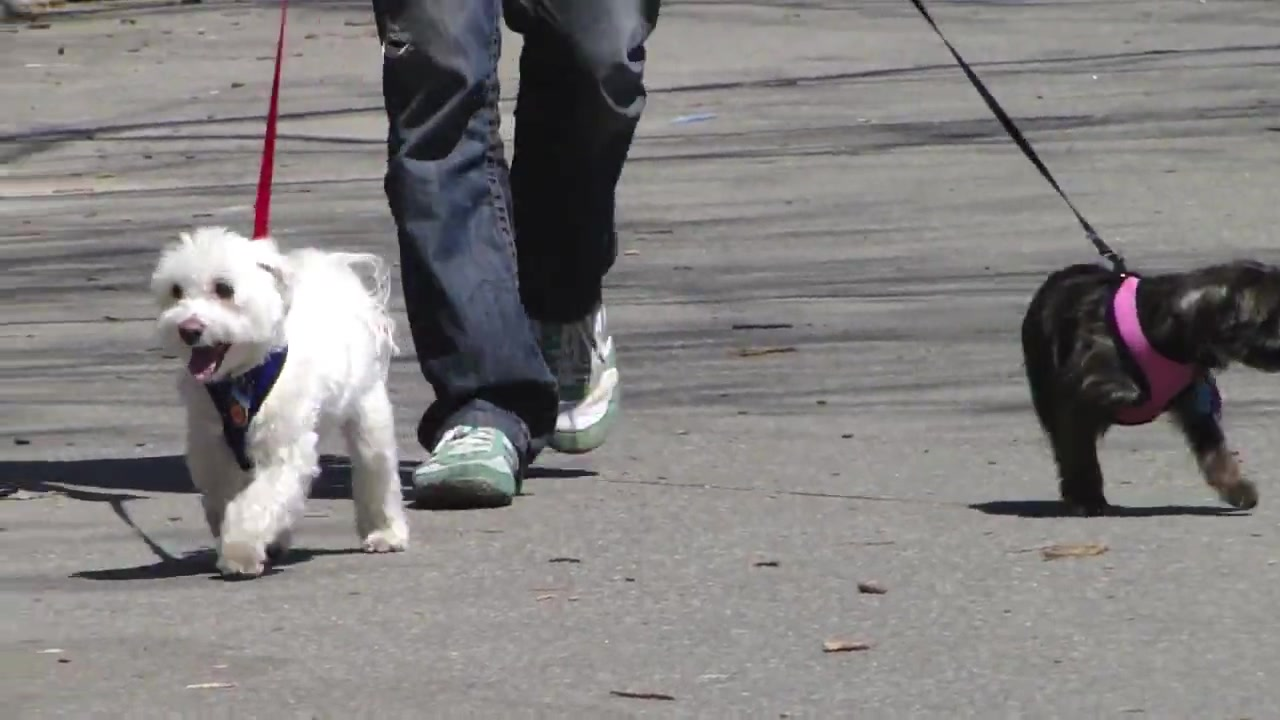dog: (150, 221, 408, 581)
